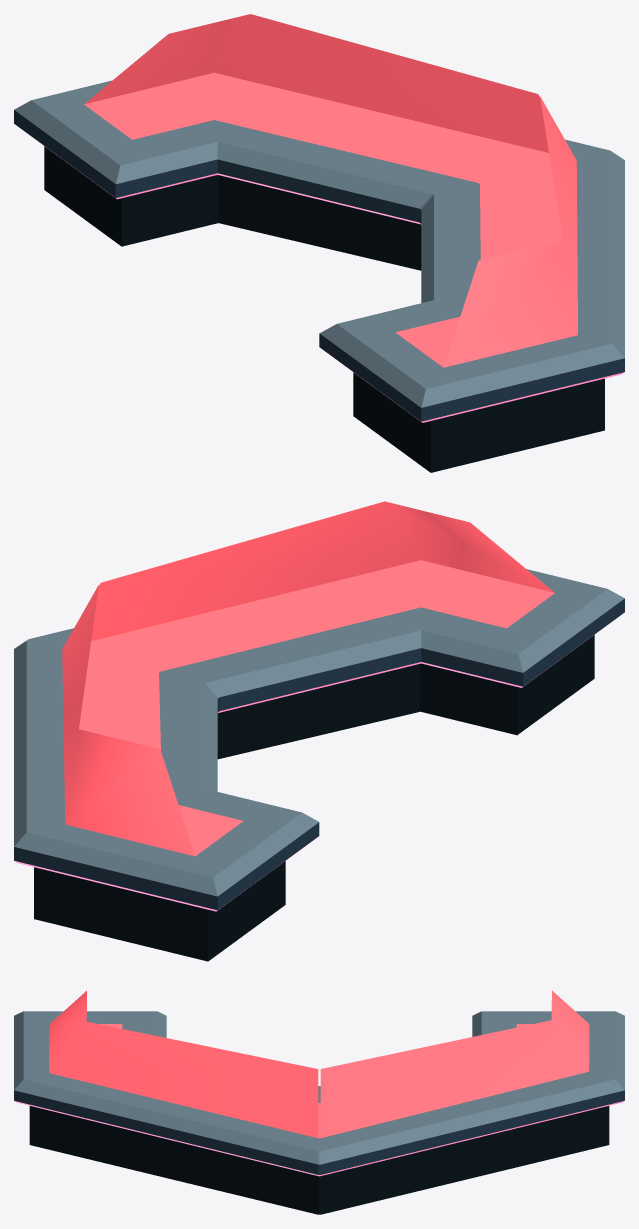
The model's file is Mesh_information_Desktop_01.fbx.
The picture shows the model from 3 angles, top to bottom: view 1: azimuth 30°, elevation 25°; view 2: azimuth 150°, elevation 25°; view 3: azimuth 270°, elevation 25°; orthographic projection. The views are drawn at different scales.
Visible parts, largest first — view 1: Mesh_information_Desktop_01; view 2: Mesh_information_Desktop_01; view 3: Mesh_information_Desktop_01.
Part boxes in pixels (x1,y1,x2,y2): Mesh_information_Desktop_01: (14,14,624,472); Mesh_information_Desktop_01: (14,501,624,961); Mesh_information_Desktop_01: (14,990,624,1214).
Bounding box in the file's own units: 397 × 152 × 689.
